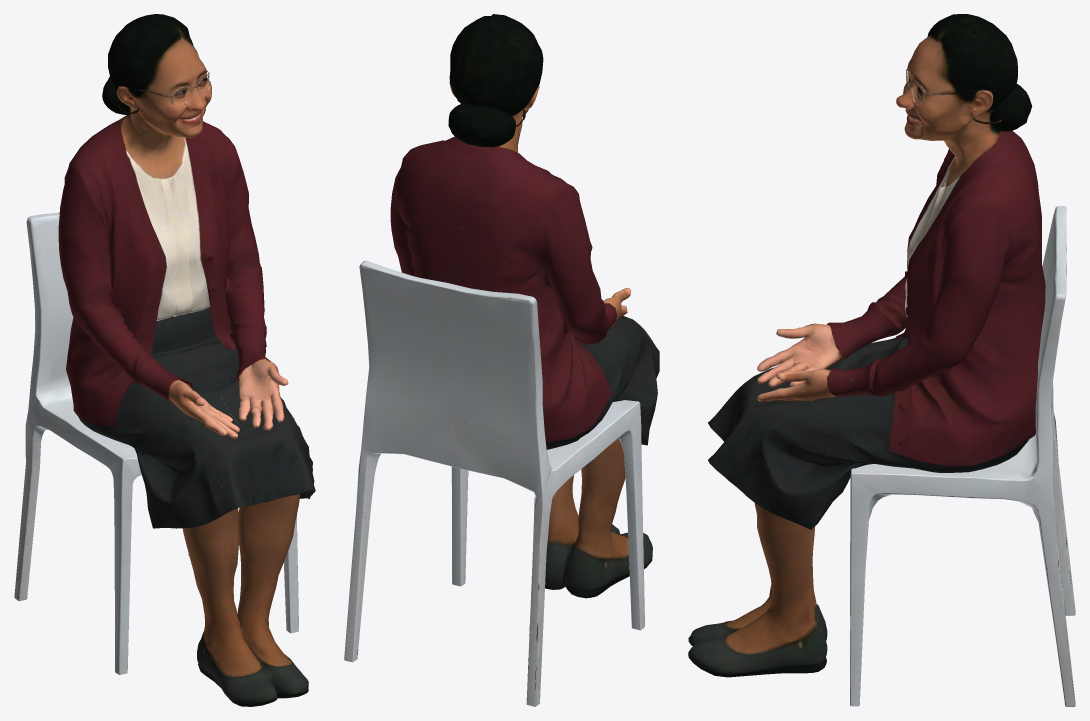
The model's file is speaker-librarian.glb.
3 views of the same model, side by side, from view 1: azimuth 30°, elevation 25°; view 2: azimuth 150°, elevation 25°; view 3: azimuth 270°, elevation 25° (orthographic). The views are drawn at different scales.
Visible parts, largest first — view 1: geometry_0; view 2: geometry_0; view 3: geometry_0.
Part boxes in pixels (x1,y1,x2,y2): geometry_0: (14,14,315,706); geometry_0: (344,14,659,706); geometry_0: (688,14,1075,706).
Size of the model in its own units: 0.3081 by 0.9512 by 0.5195.
Materials: 1 (1 with a texture image).
